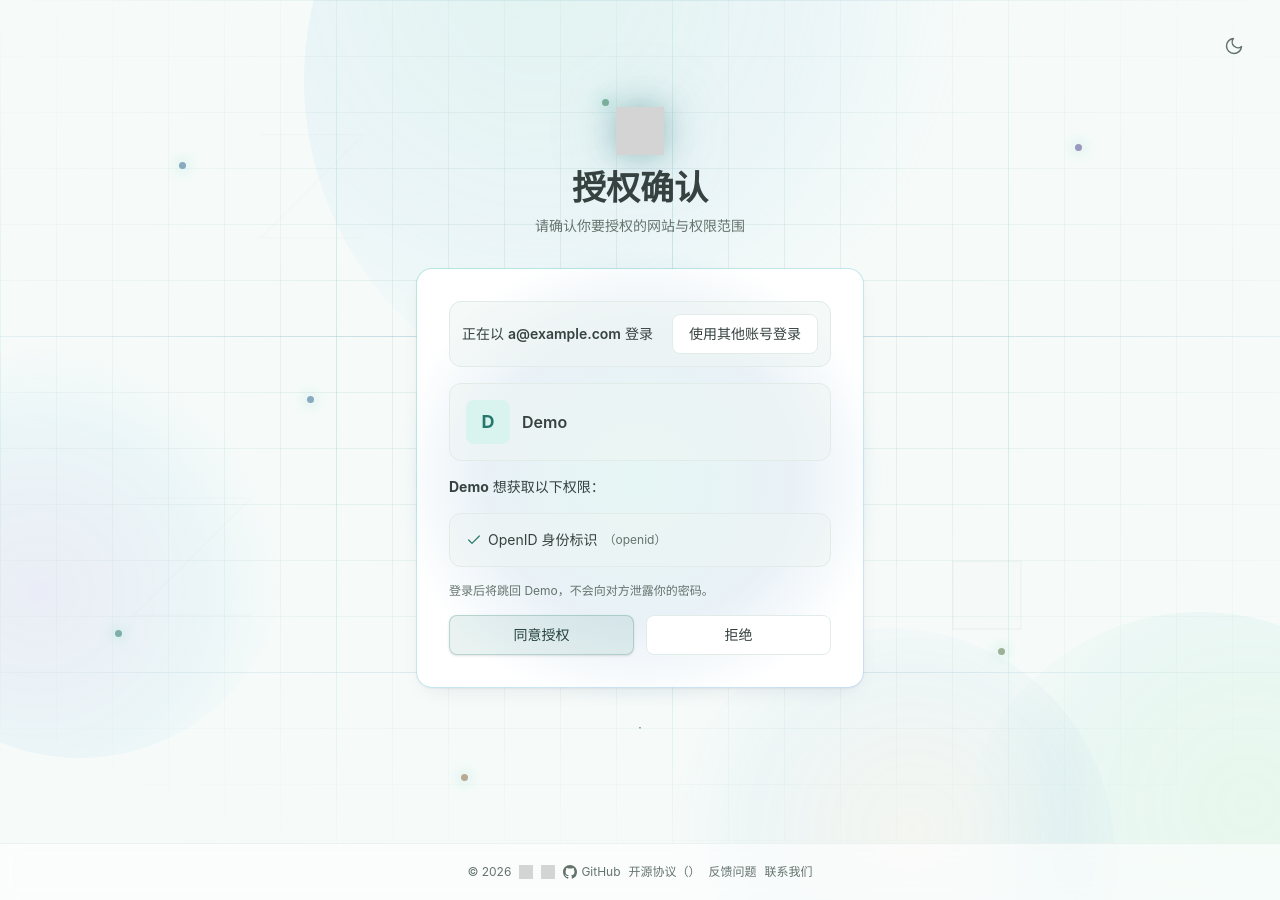
ConsentPage › 处理中状态只出现在被点击的按钮上
Click the button "同意授权". click: click(542, 635)
box: [449, 615, 634, 655]
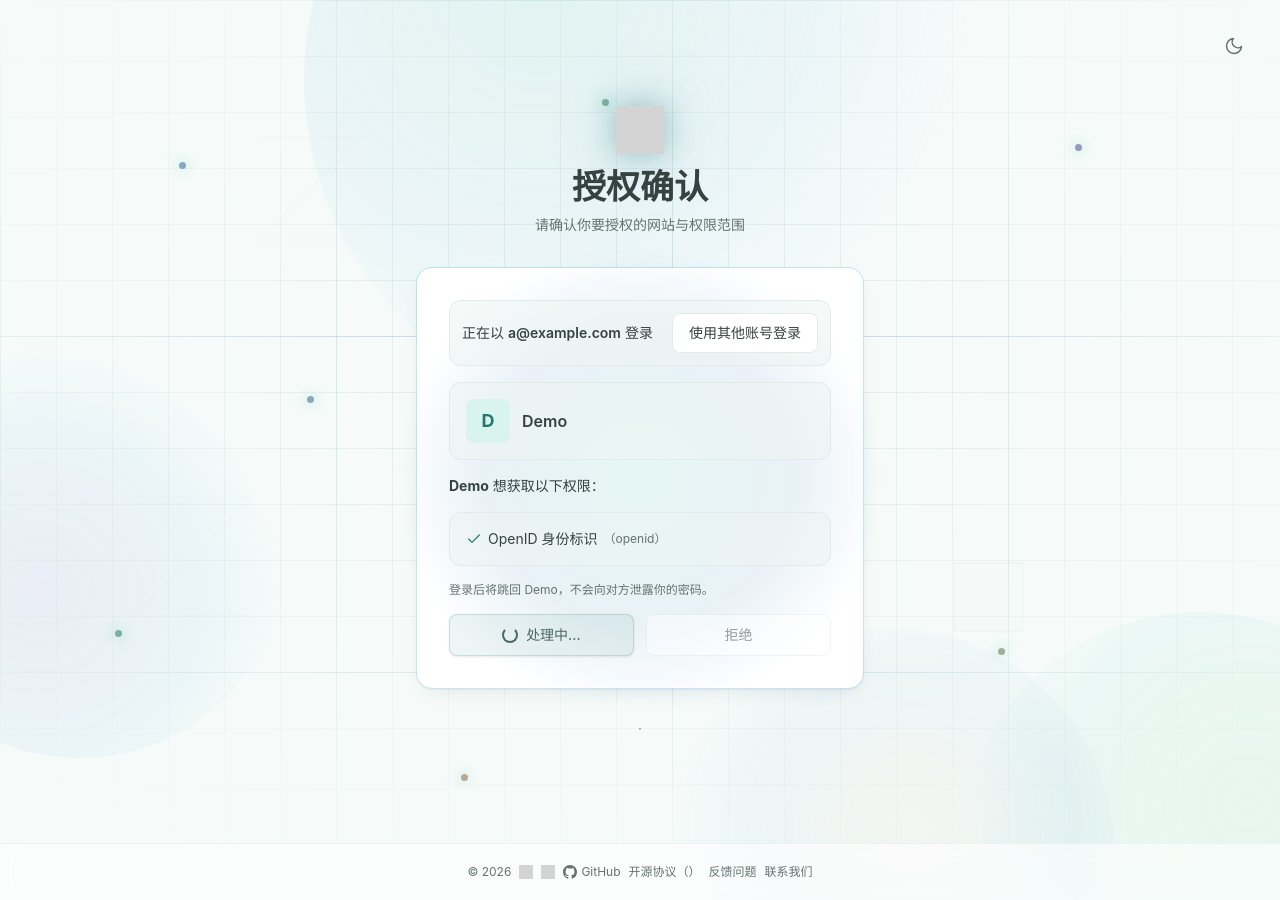
Expected: the button "拒绝" is disabled, [646, 614, 831, 656]
